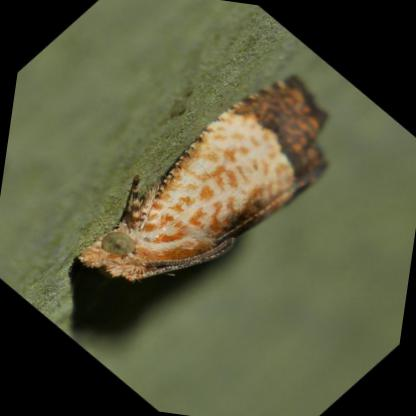Leaf Webber: (69, 75, 334, 289)
